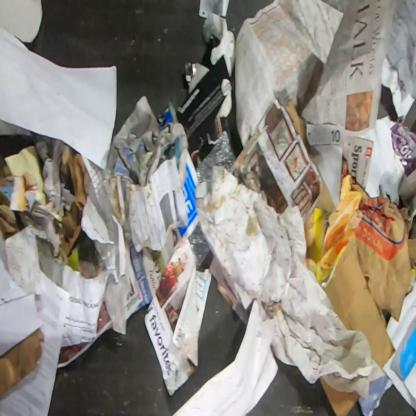cardboard: (323, 240, 396, 370), (284, 98, 337, 214), (0, 145, 48, 241), (0, 328, 45, 399), (320, 376, 361, 415)
soft_plastic: (196, 130, 236, 194), (188, 222, 211, 266)
